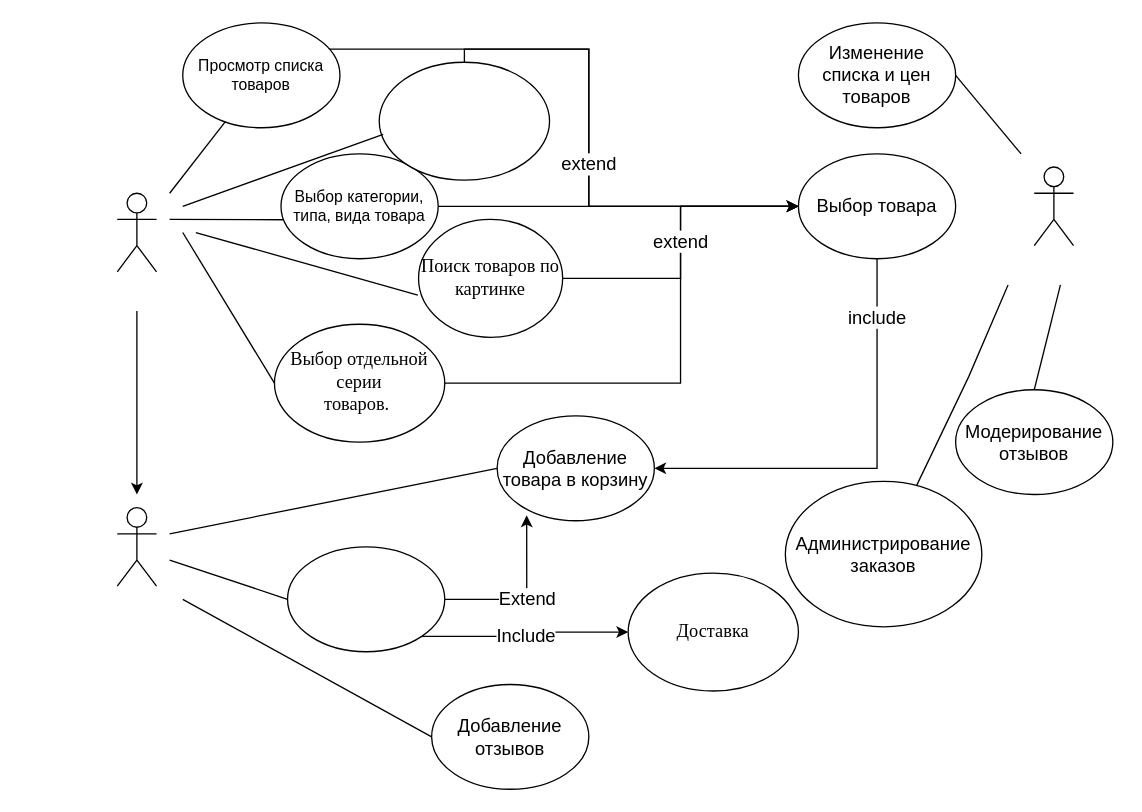
Some shapes in this 1142 by 812 pixel diagram are drawn without their labels. Each missing label, with the box of its shape:
Администратор: (1033, 166, 1074, 246)
Оплата товара: (286, 546, 445, 652)
Покупатель: (116, 506, 157, 586)
Посетитель интернет-магазина: (116, 192, 157, 272)
Текстовый поиск товаров по названию: (378, 61, 550, 180)
